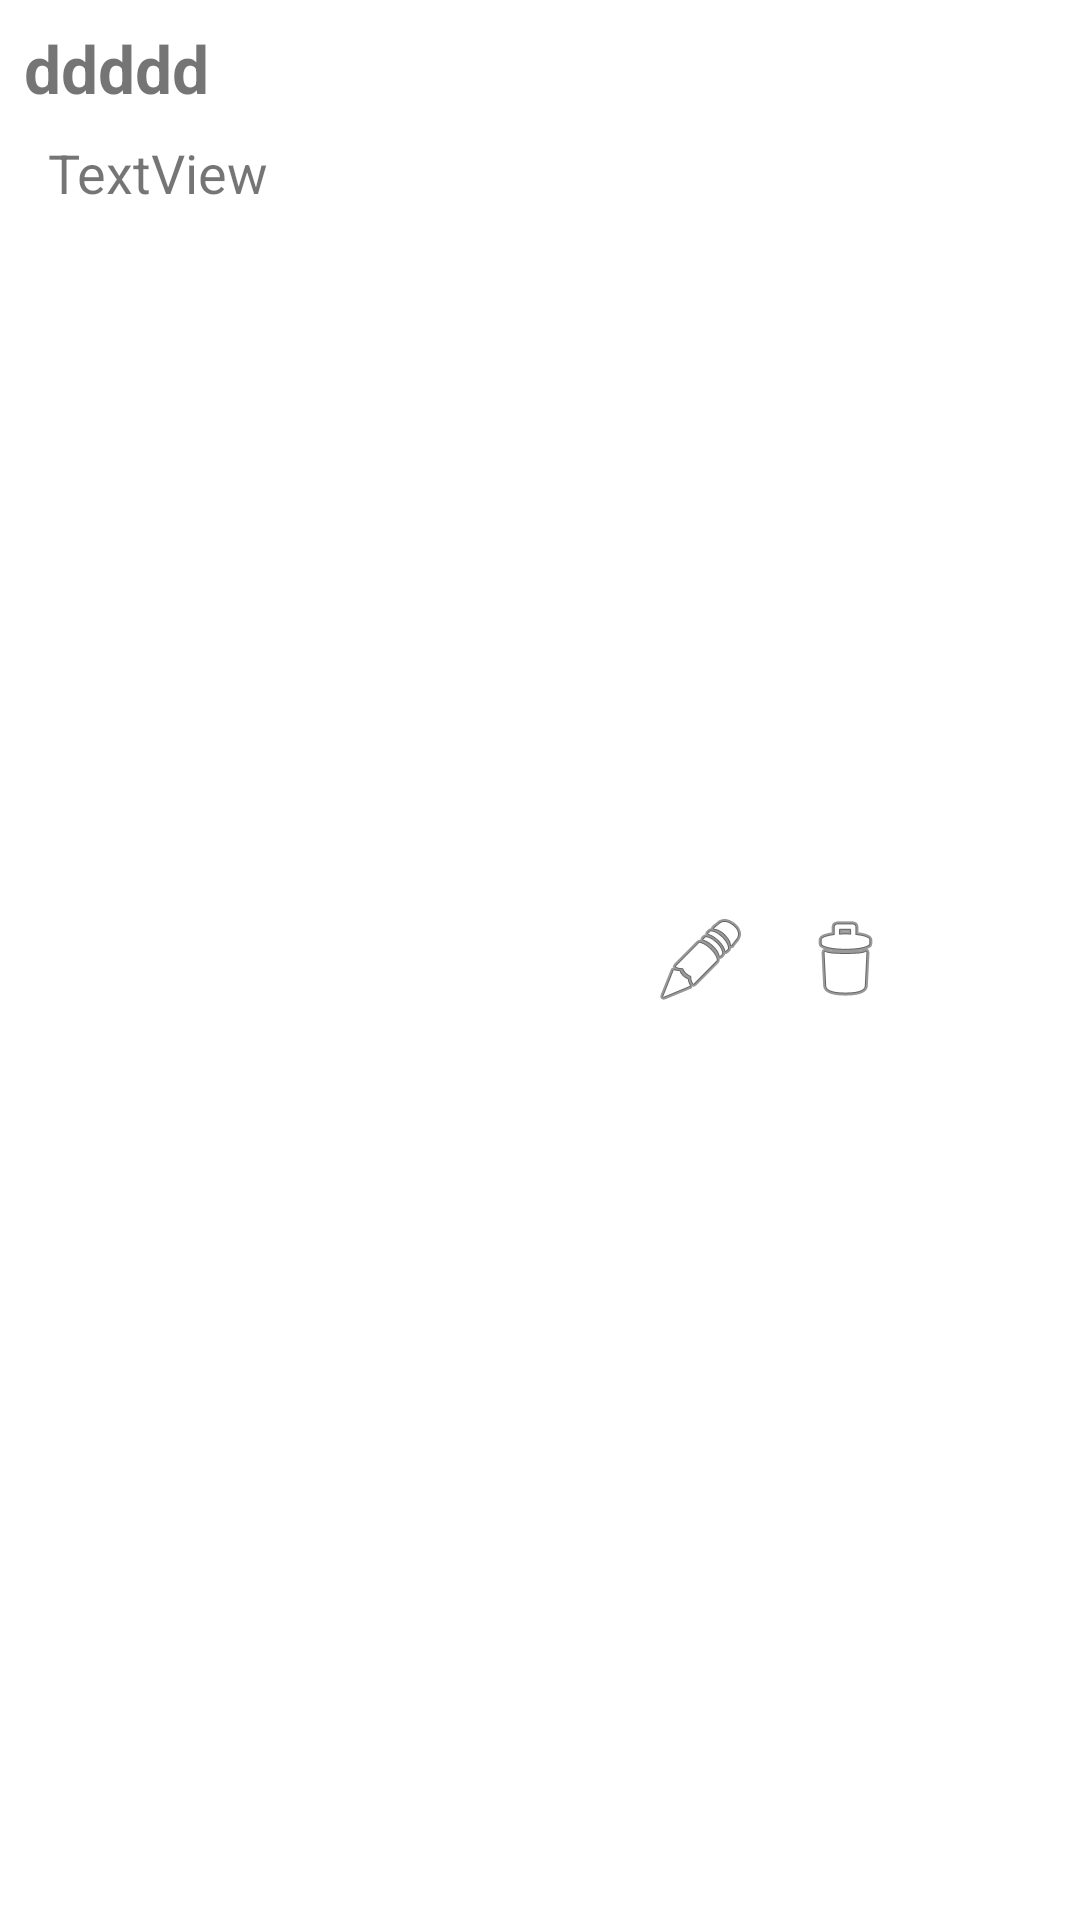

Icons on this 1080px×1920px Android screen, each with the point to tap as (x,y):
delete: (845,958)
edit: (700,959)
